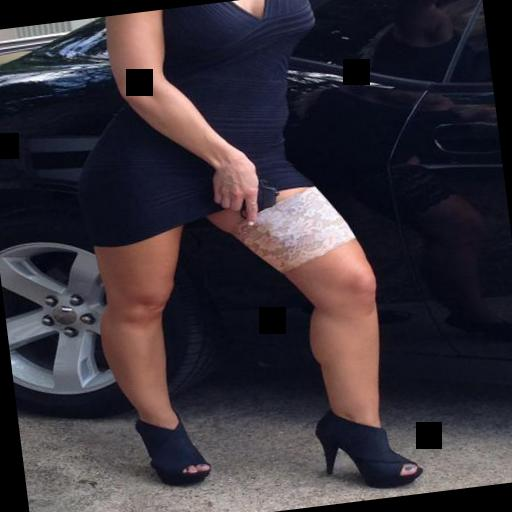Handgun: (220, 174, 286, 224)
